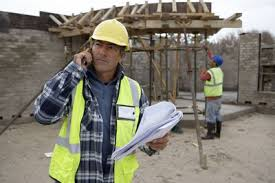hard hat: (90, 19, 130, 51), (213, 54, 223, 67)
high-vis: (49, 75, 142, 182), (204, 68, 225, 97)
